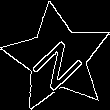N_NE: (26, 26, 89, 90)
